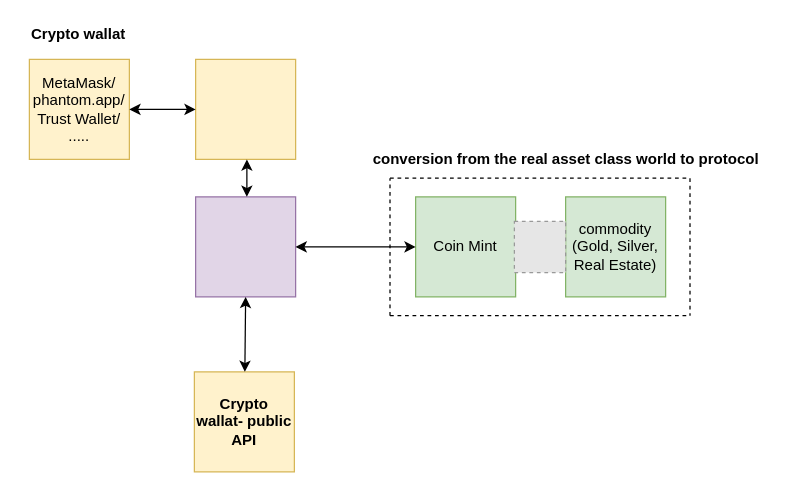
This 786x494 diagram has some shape labels left out. Grey dashed boxes stand in for pictures. The shapes that lost their labels are listed below. From the top down, each one's centre as x and y in pixels, then its label:
the point at 245,108: User A
the point at 245,246: Exchange (coin VS. Commodity)
